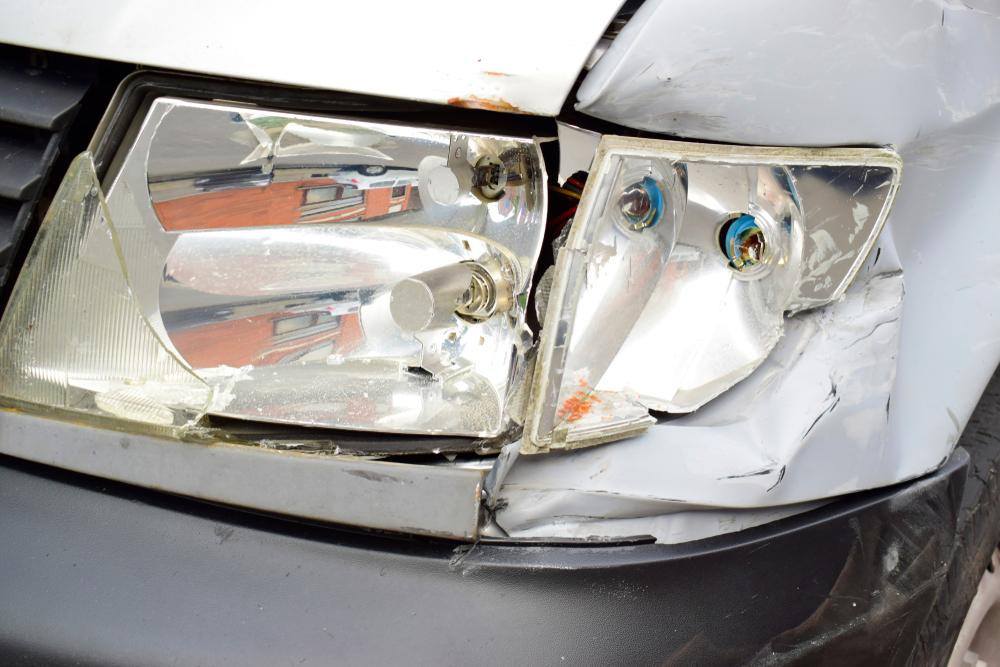dent: (492, 102, 1000, 537), (589, 56, 713, 135)
lamp broken: (0, 82, 896, 457)
